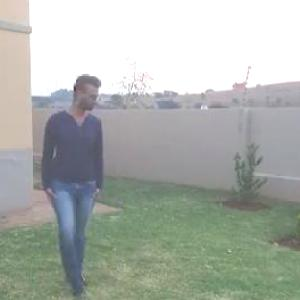follow: (40, 64, 123, 299)
